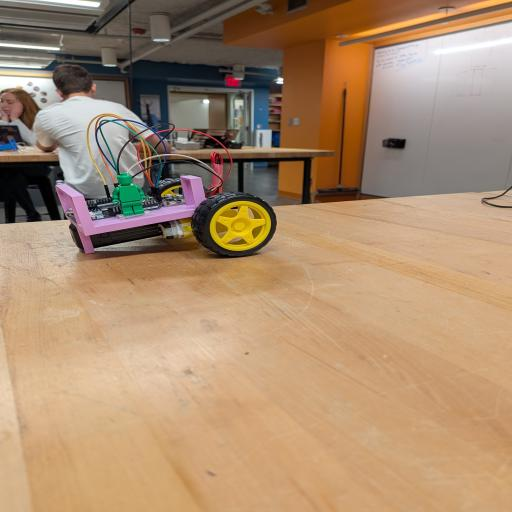Minifig: (113, 173, 145, 216)
